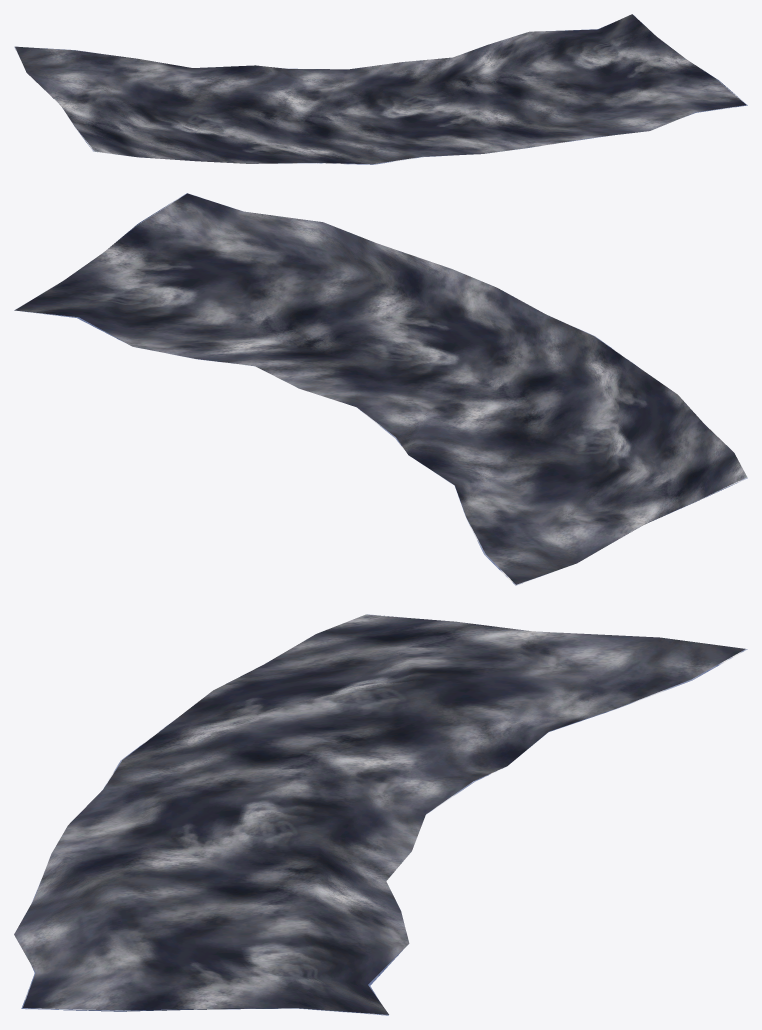
The model's file is HTOWN01_WATER03.fbx.
3 renders of one model, top to bottom at view 1: azimuth 30°, elevation 25°; view 2: azimuth 150°, elevation 25°; view 3: azimuth 270°, elevation 25°, orthographic. The views are drawn at different scales.
Visible parts, largest first — view 1: HTOWN01_WATER03; view 2: HTOWN01_WATER03; view 3: HTOWN01_WATER03.
Boxes of the visible parts, x1,y1,x2,y2 form: HTOWN01_WATER03: (14, 14, 747, 164); HTOWN01_WATER03: (14, 193, 747, 585); HTOWN01_WATER03: (14, 614, 747, 1015).
Bounding box in the file's own units: 376916 × 1735 × 292822.
2 materials, 2 textured.
